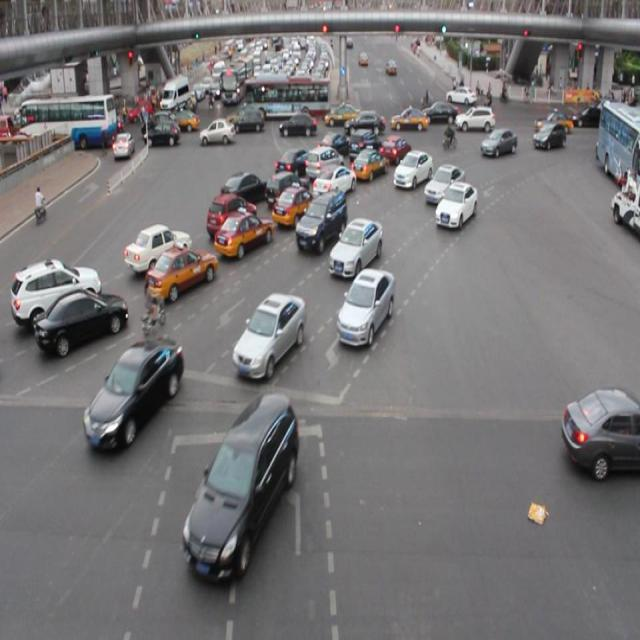car: (184, 393, 295, 582), (85, 333, 184, 448), (562, 386, 640, 471), (233, 293, 304, 380), (36, 287, 126, 354), (12, 257, 99, 324), (337, 267, 392, 346), (146, 247, 215, 302), (294, 188, 346, 252), (328, 217, 381, 277), (126, 224, 191, 270), (212, 209, 270, 256), (204, 191, 256, 239), (434, 181, 475, 226), (272, 187, 315, 229), (422, 163, 464, 203), (392, 149, 432, 190), (220, 172, 268, 205), (267, 171, 310, 207), (349, 145, 389, 182), (314, 164, 354, 200), (478, 126, 514, 160), (348, 126, 379, 164), (276, 148, 312, 177), (317, 128, 348, 160), (380, 134, 410, 167), (530, 123, 563, 151)
truck: (304, 146, 343, 184)
